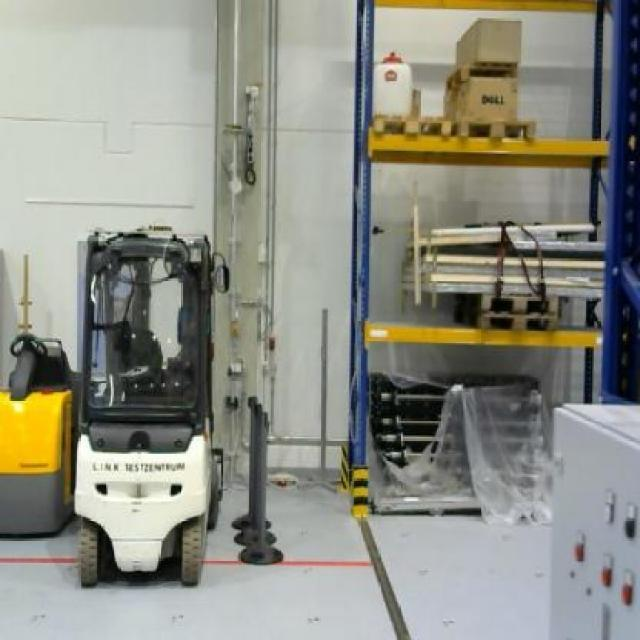box: (452, 15, 522, 70), (442, 78, 520, 124)
